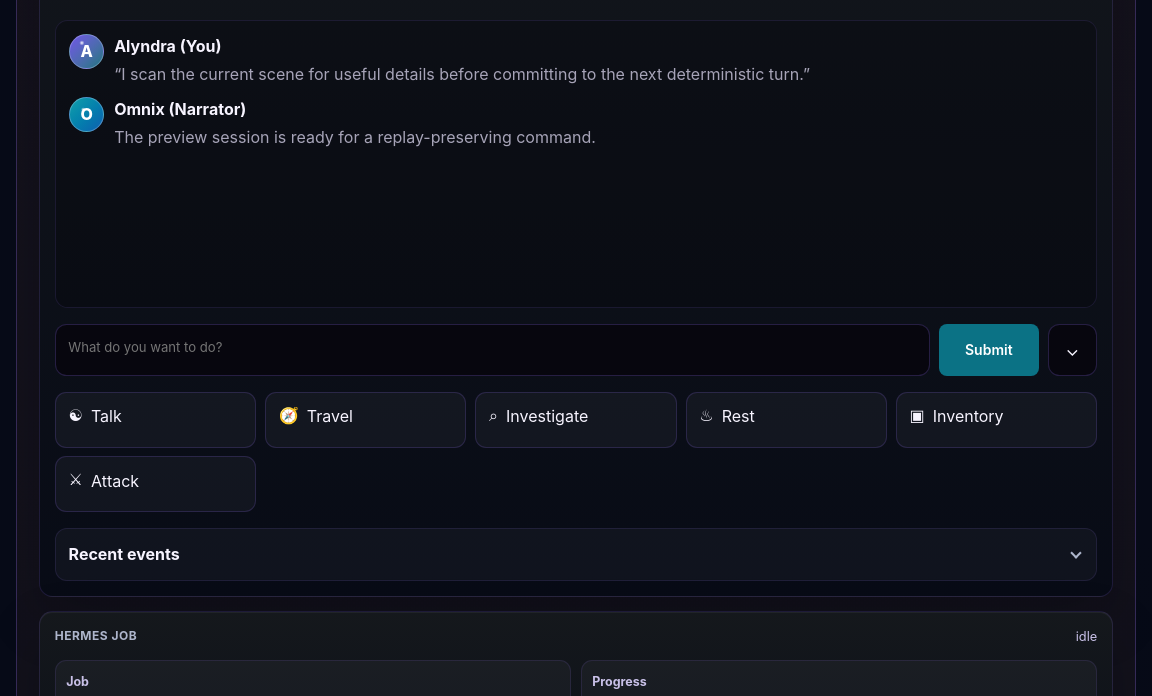
provider-backed feature submit feedback › surfaces RPG turn job failures
This screenshot has width=1152, height=696.
(page scrolled)
Type "Look around the tavern." into the text box named "Command".
click(492, 350); type("Look around the tavern.")  # box [55,324,930,376]
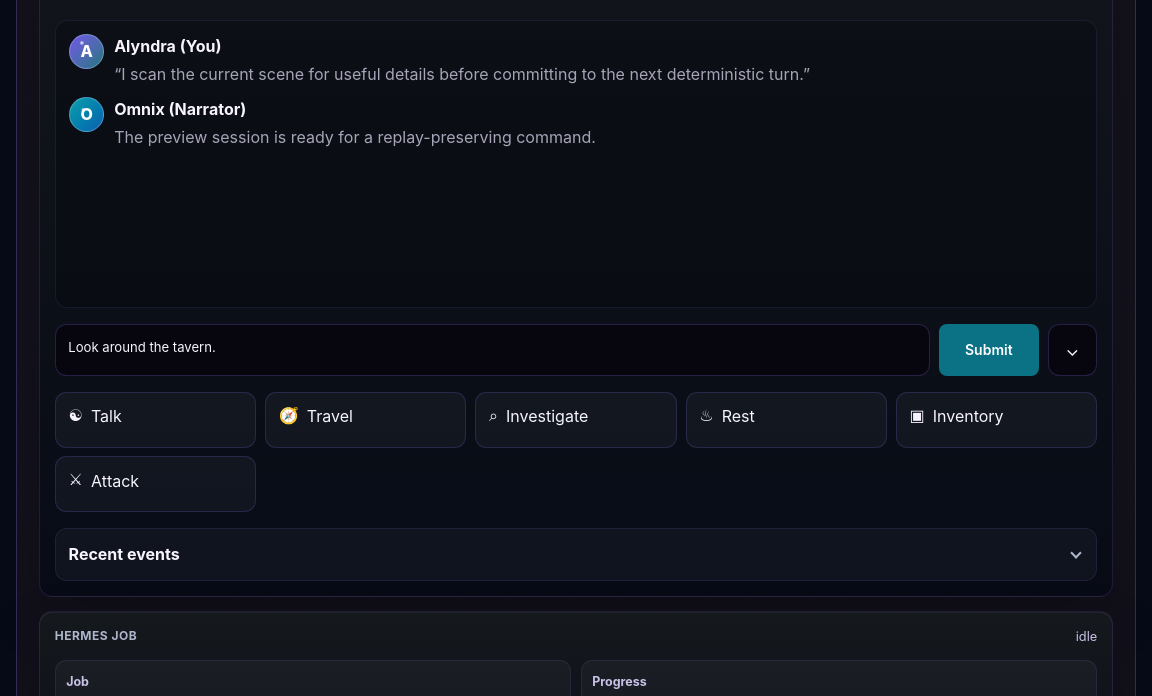
Click the button with aria-label "Queue RPG turn".
click(989, 350)  # box [939,324,1039,376]
(page scrolled)
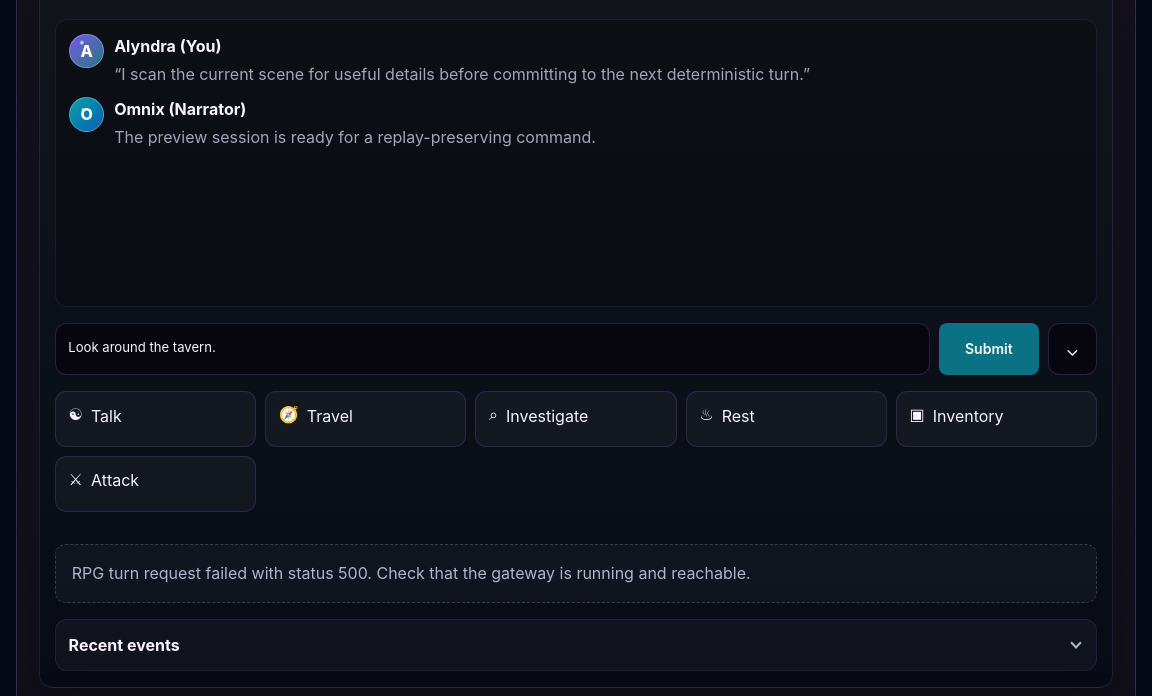
Now the text "RPG turn request failed with status 500" is shown, box [72,563,751,583]
